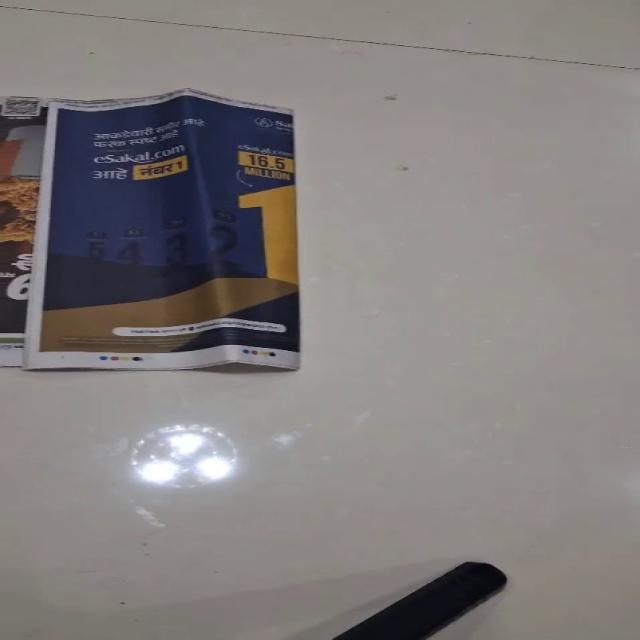paper: (20, 88, 300, 372)
